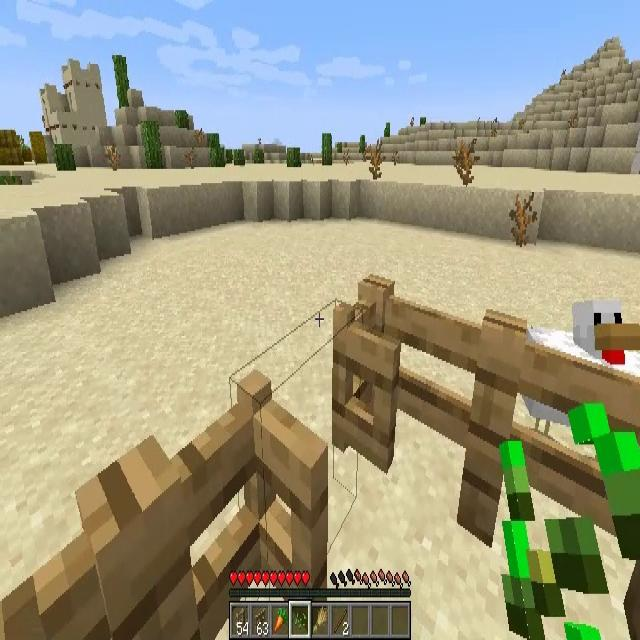duck: (523, 296, 640, 446)
